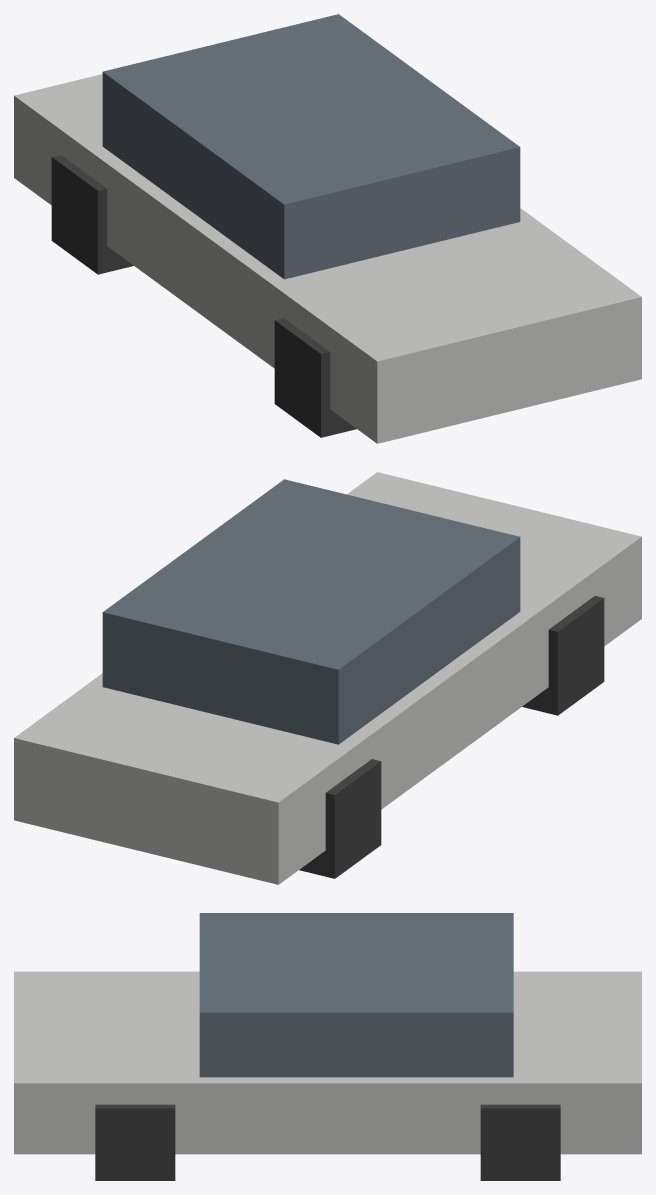
File: sedan_crossover.glb
The picture shows the model from 3 angles, top to bottom: view 1: azimuth 30°, elevation 25°; view 2: azimuth 150°, elevation 25°; view 3: azimuth 270°, elevation 25°; orthographic projection. The views are drawn at different scales.
Parts seen in each view (by area): view 1: ego_sedan; view 2: ego_sedan; view 3: ego_sedan.
Part boxes in pixels (x1,y1,x2,y2): ego_sedan: [14, 14, 641, 443]; ego_sedan: [14, 472, 641, 884]; ego_sedan: [14, 913, 641, 1180].
Bounding box in the file's own units: 1.98 × 1.23 × 4.4.
